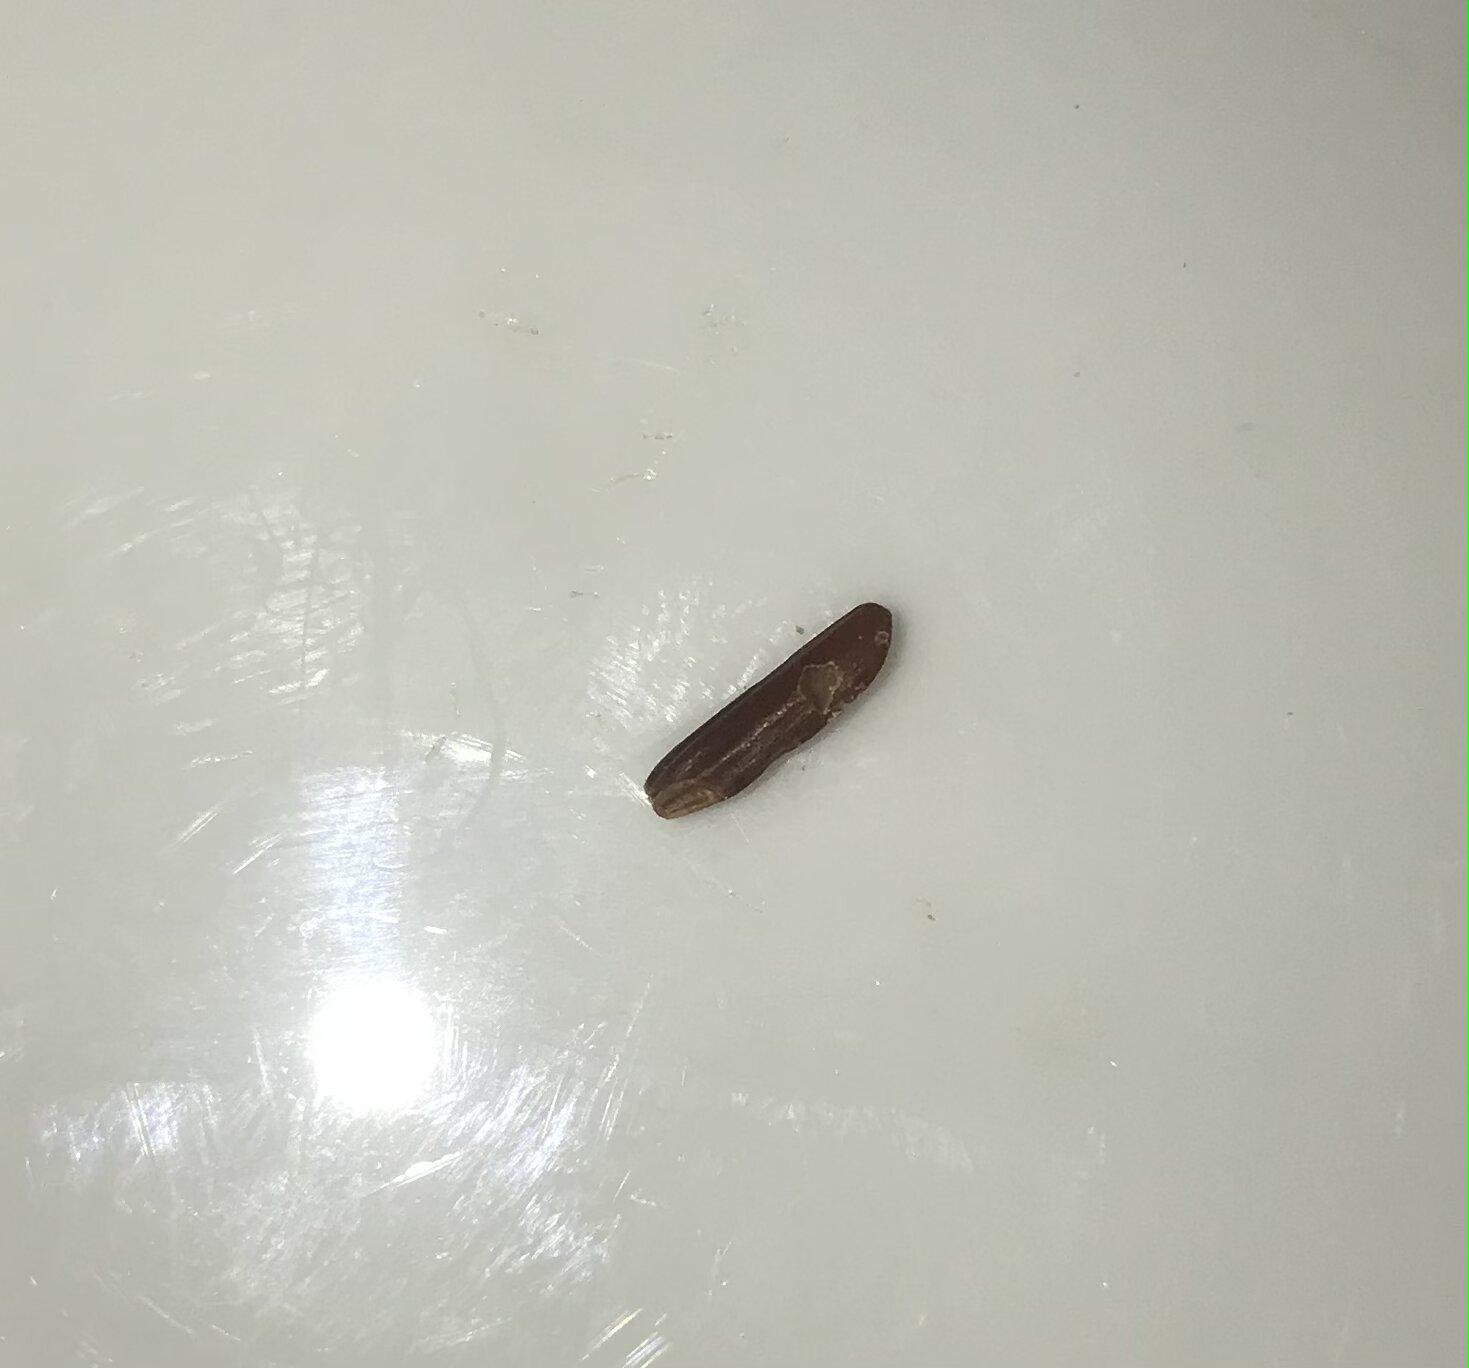Gao Huyet Rong: (634, 584, 895, 822)
